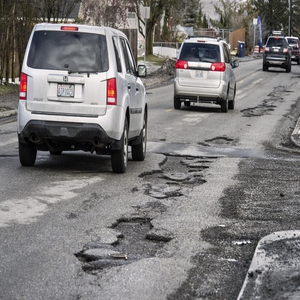pothole: (83, 217, 168, 277), (147, 149, 215, 205), (243, 102, 275, 120), (206, 136, 231, 149)
